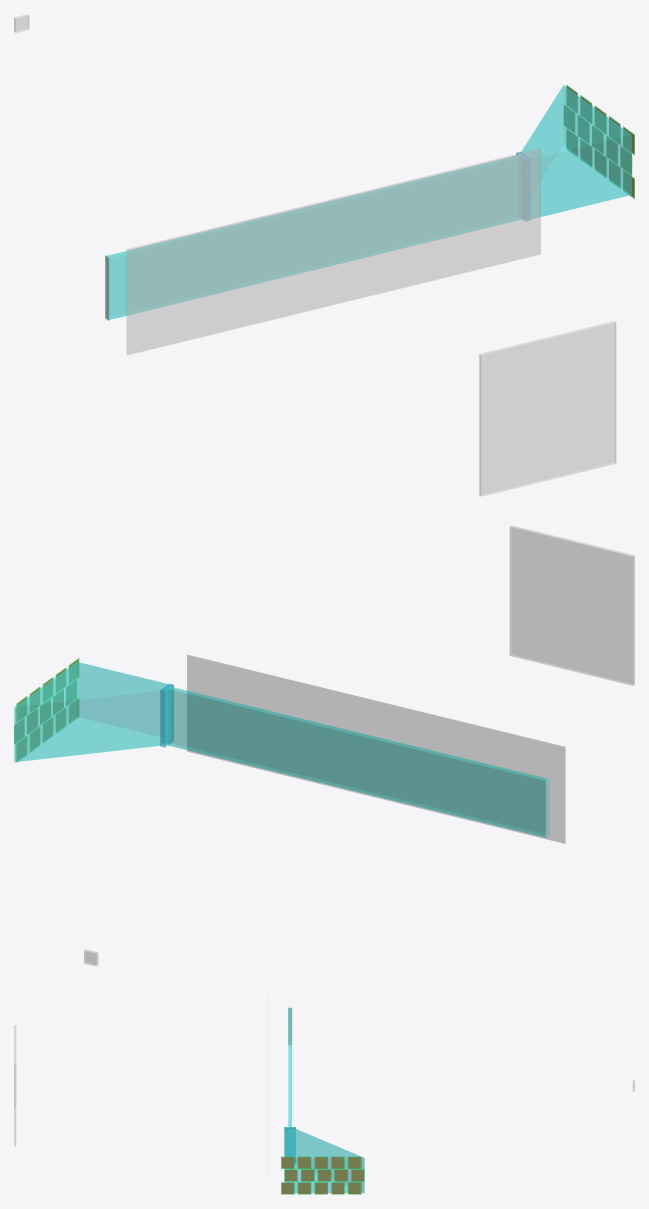
Rendered from plateL2.dae.
The picture shows the model from 3 angles, top to bottom: view 1: azimuth 30°, elevation 25°; view 2: azimuth 150°, elevation 25°; view 3: azimuth 270°, elevation 25°; orthographic projection. The views are drawn at different scales.
Parts seen in each view (by area): view 1: ShapeIndexedFaceSet_002, ShapeIndexedFaceSet_003, ShapeIndexedFaceSet, ShapeIndexedFaceSet_007; view 2: ShapeIndexedFaceSet_002, ShapeIndexedFaceSet_003, ShapeIndexedFaceSet, ShapeIndexedFaceSet_007; view 3: ShapeIndexedFaceSet_007, ShapeIndexedFaceSet_003, ShapeIndexedFaceSet, ShapeIndexedFaceSet_006.
Part boxes in pixels (x1=…): ShapeIndexedFaceSet_002: x1=126, y1=148, x2=540, y2=355; ShapeIndexedFaceSet_003: x1=106, y1=155, x2=521, y2=319; ShapeIndexedFaceSet: x1=479, y1=321, x2=616, y2=496; ShapeIndexedFaceSet_007: x1=521, y1=85, x2=631, y2=218; ShapeIndexedFaceSet_002: x1=187, y1=654, x2=565, y2=843; ShapeIndexedFaceSet_003: x1=168, y1=687, x2=548, y2=837; ShapeIndexedFaceSet: x1=509, y1=525, x2=634, y2=685; ShapeIndexedFaceSet_007: x1=14, y1=662, x2=168, y2=762; ShapeIndexedFaceSet_007: x1=284, y1=1129, x2=364, y2=1193; ShapeIndexedFaceSet_003: x1=288, y1=1008, x2=291, y2=1127; ShapeIndexedFaceSet: x1=14, y1=1025, x2=16, y2=1146; ShapeIndexedFaceSet_006: x1=284, y1=1127, x2=295, y2=1164.
Size of the model in its own units: 15.41 by 27.1 by 4.
